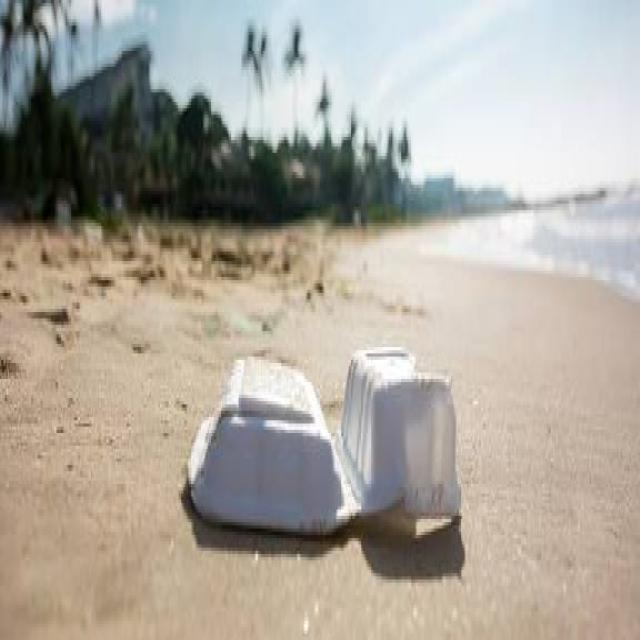styrofoam: (164, 287, 494, 602)
